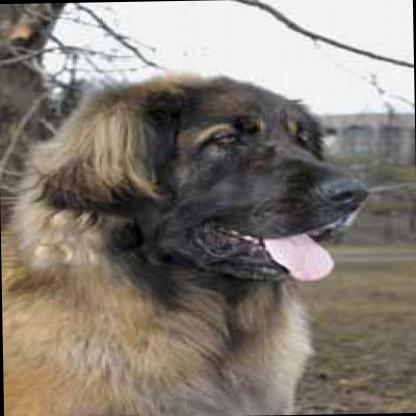Leonberg: (0, 69, 369, 416)
